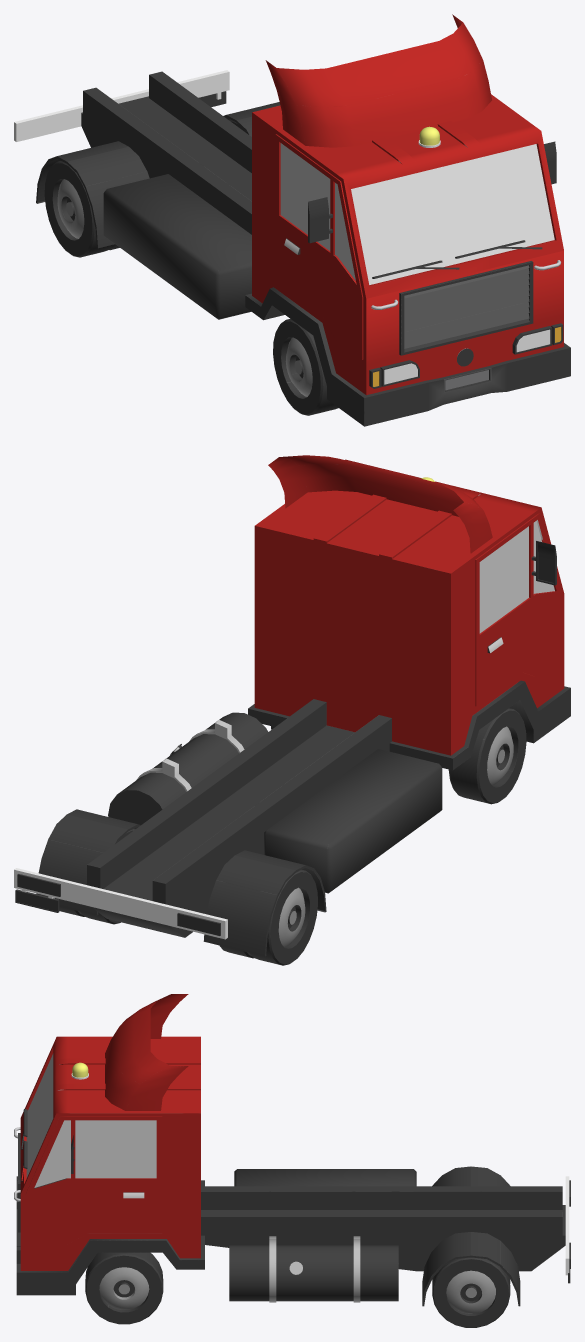
The model's file is Truck_noBack.fbx.
3 views of the same model, one above another, from view 1: azimuth 30°, elevation 25°; view 2: azimuth 150°, elevation 25°; view 3: azimuth 270°, elevation 25° (orthographic). The views are drawn at different scales.
Visible parts, largest first — view 1: Truckl, Window.001; view 2: Truckl, Window.001; view 3: Truckl, Window.001.
Boxes of the visible parts, left/top/right/bottom form: Truckl: left=14, top=14, right=570, bottom=426; Window.001: left=280, top=143, right=554, bottom=284; Truckl: left=14, top=455, right=570, bottom=965; Window.001: left=479, top=521, right=554, bottom=633; Truckl: left=14, top=994, right=570, bottom=1327; Window.001: left=26, top=1053, right=156, bottom=1187.
Size of the model in its own units: 199 by 246 by 490.
